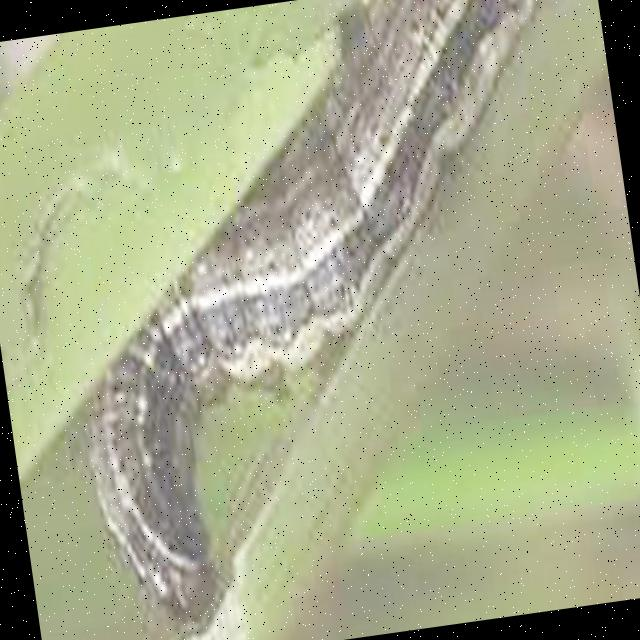worm: (25, 1, 640, 638)
